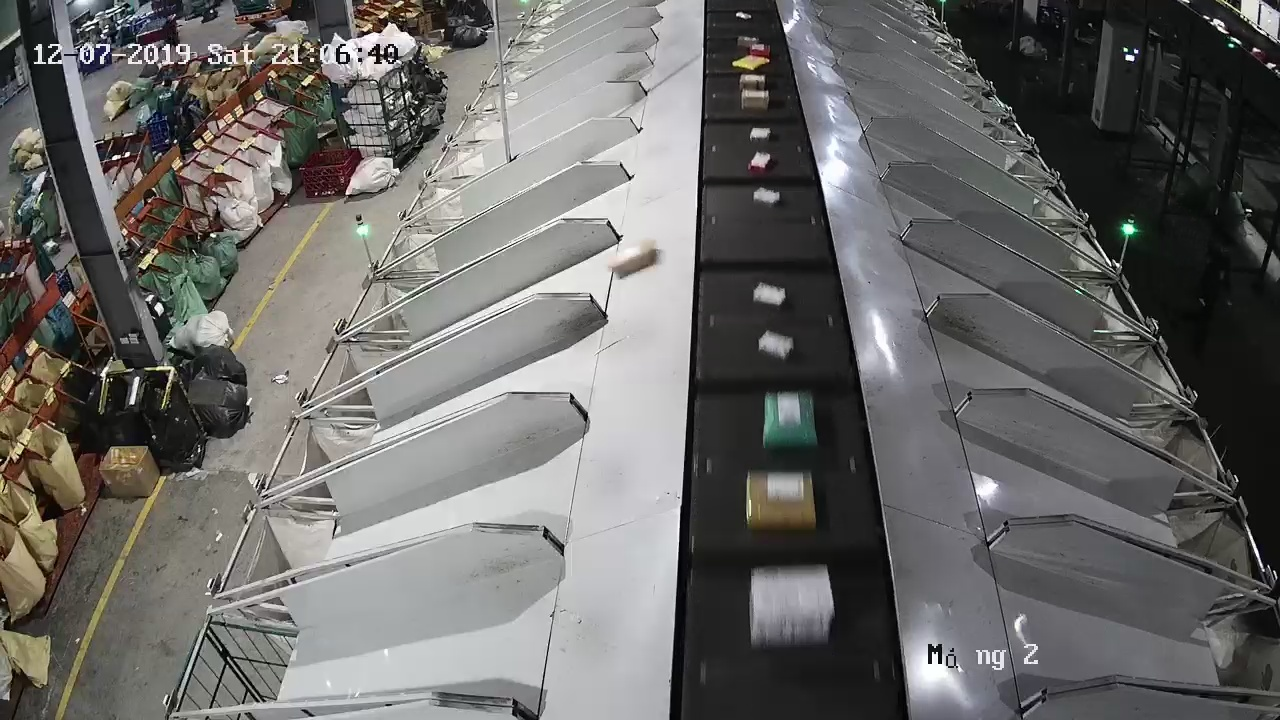parcel: (606, 239, 657, 279)
